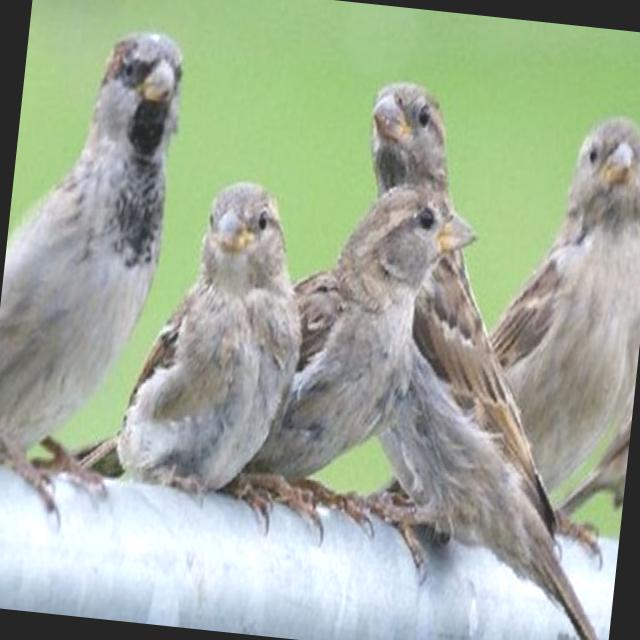bird: (311, 70, 640, 640), (0, 15, 201, 536), (232, 154, 482, 532), (76, 158, 319, 526), (461, 98, 640, 534)
